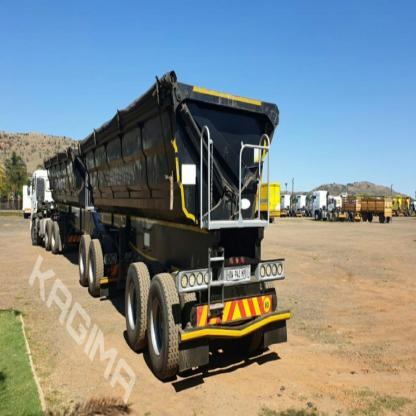dump_truck: (18, 66, 287, 372), (310, 178, 388, 233)
